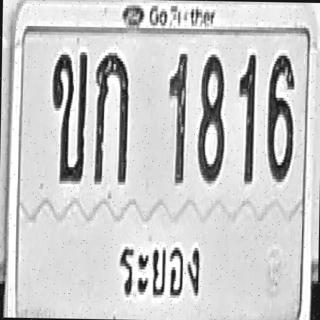A01: (94, 51, 128, 184)
A02: (50, 50, 87, 183)
N01: (167, 49, 188, 184), (236, 52, 256, 184)
N06: (266, 52, 294, 182)
N08: (196, 53, 226, 182)
P53: (115, 232, 206, 312)
